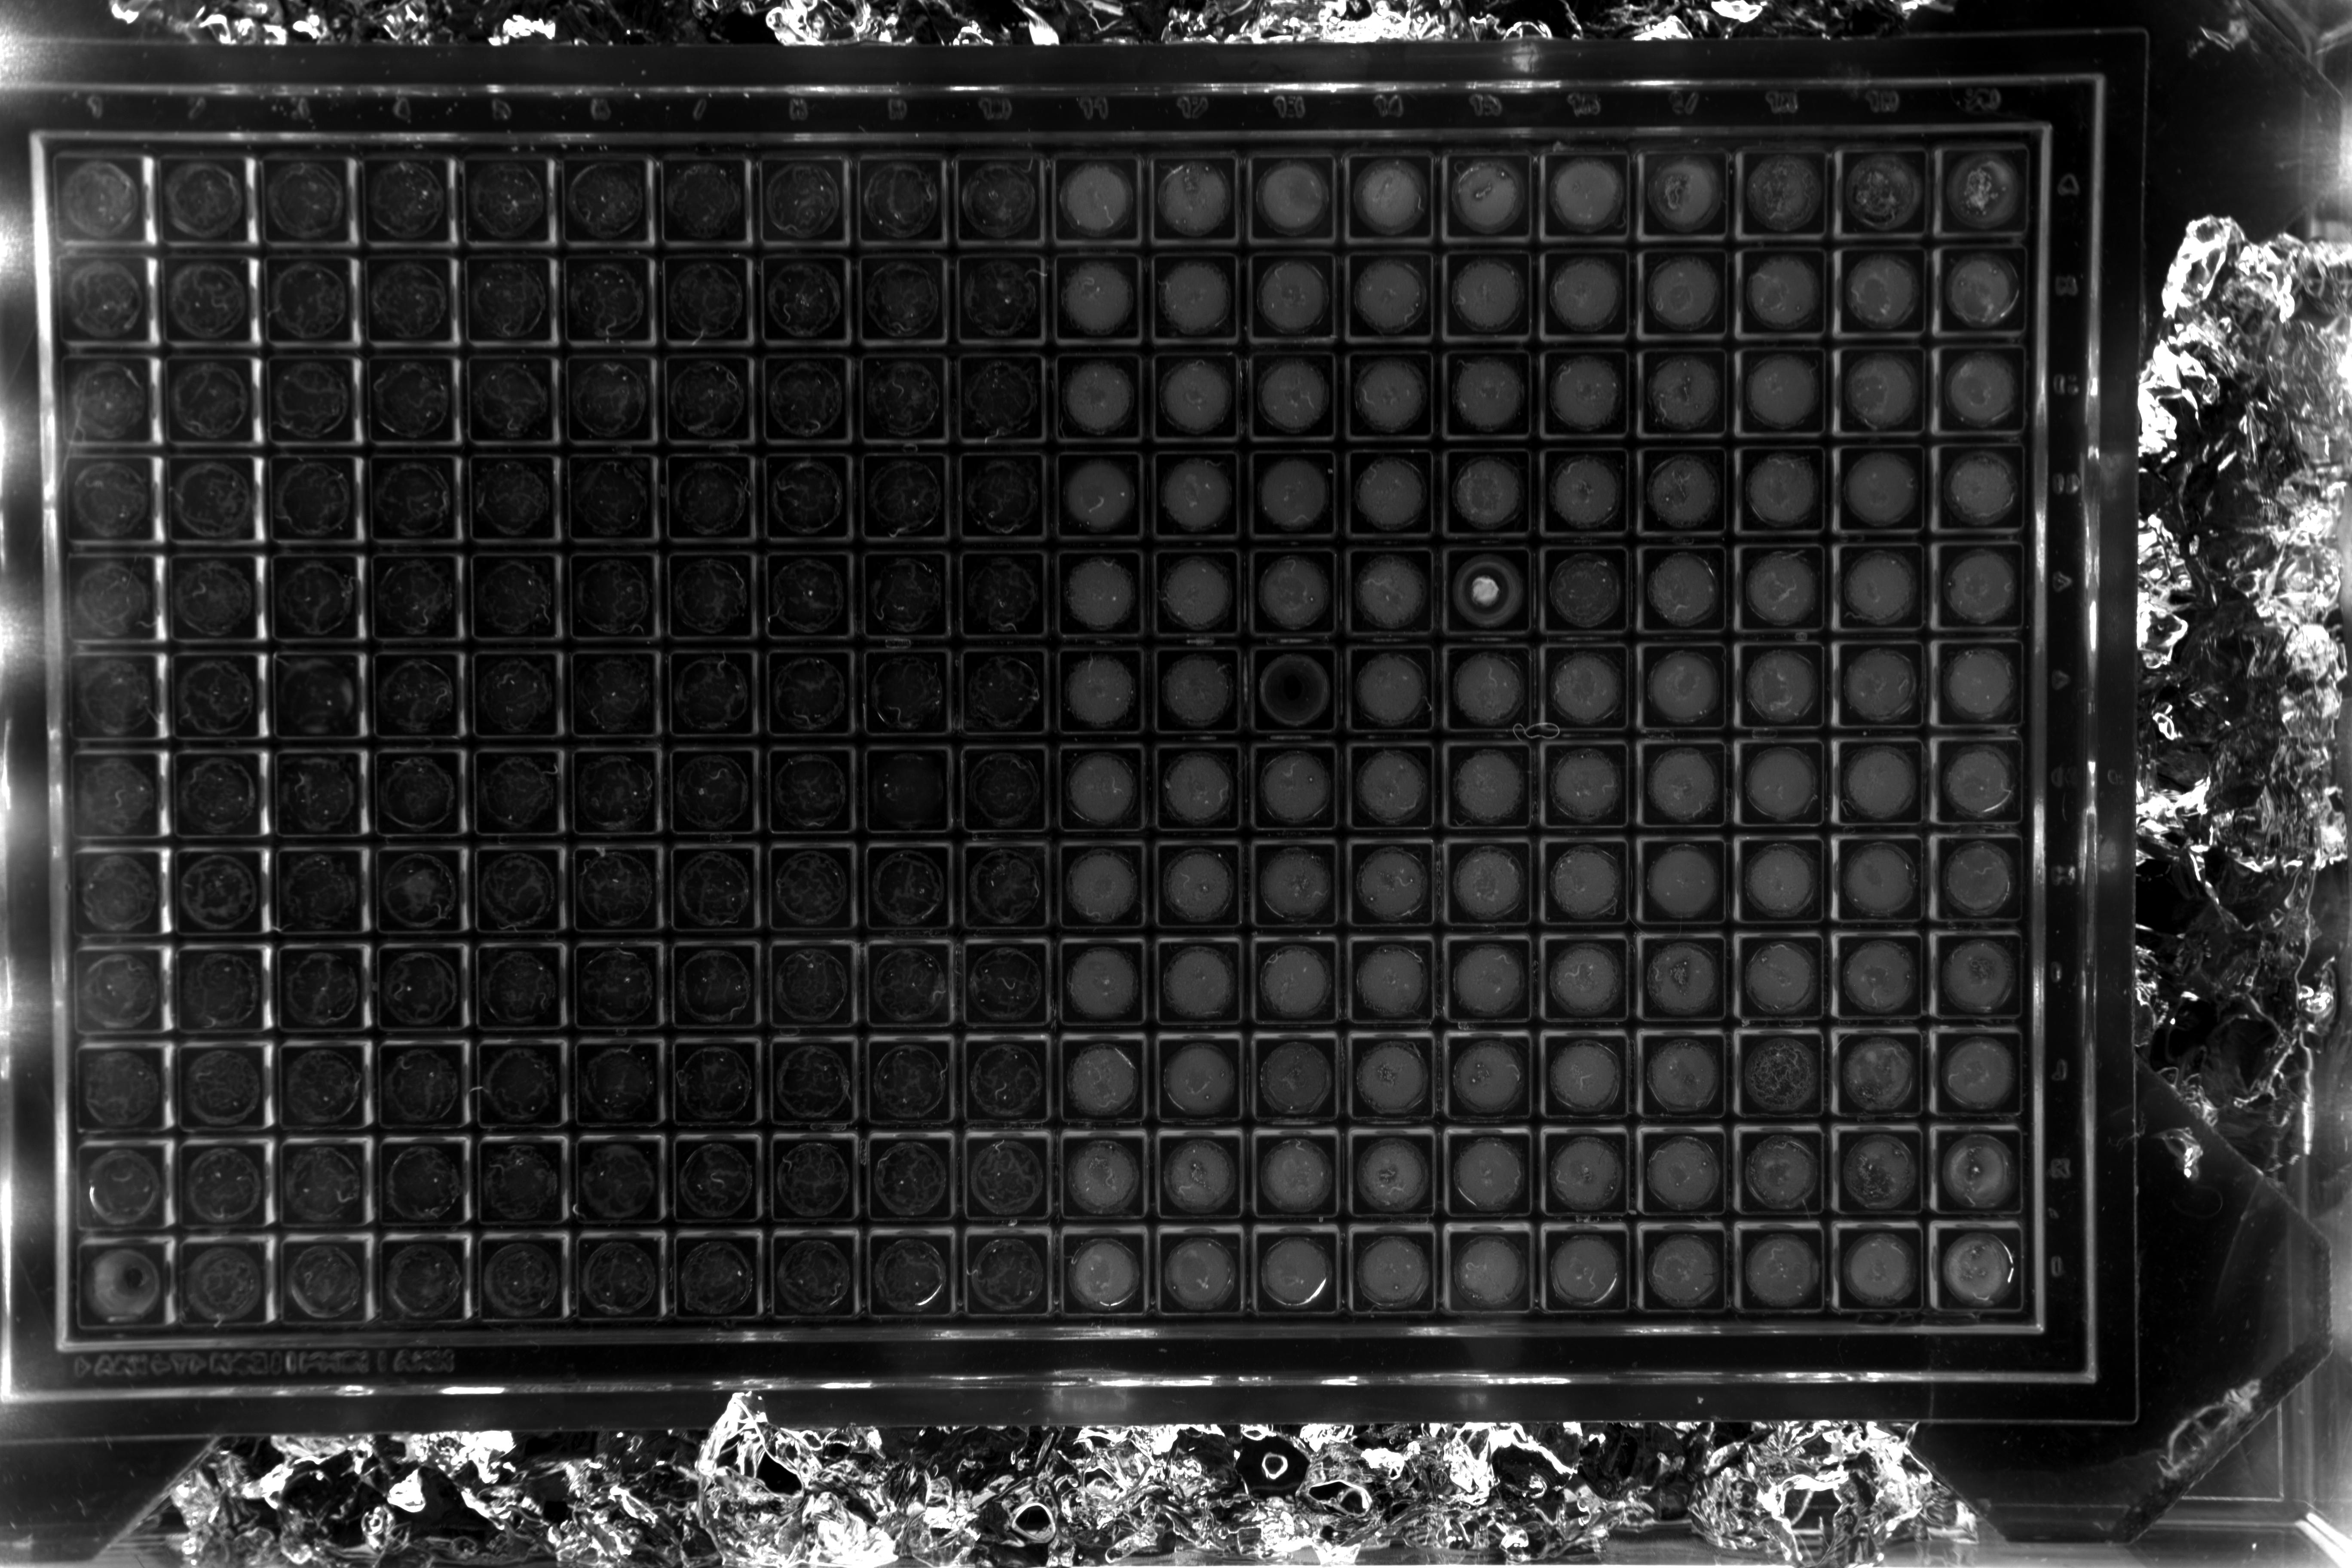WM_well: (789, 1213, 878, 1300), (205, 1120, 292, 1207), (303, 1120, 390, 1207), (401, 1216, 488, 1304), (595, 1116, 682, 1204), (688, 338, 775, 425), (884, 338, 971, 425), (887, 1115, 975, 1202), (983, 1113, 1071, 1200), (1080, 920, 1167, 1008), (1176, 532, 1263, 619), (1176, 726, 1263, 814), (1176, 822, 1263, 910), (1272, 920, 1360, 1008), (1465, 1211, 1552, 1298), (1465, 1017, 1552, 1104), (1466, 920, 1554, 1008), (1466, 630, 1554, 717), (1563, 1017, 1650, 1104), (1563, 920, 1650, 1008), (1568, 136, 1655, 224), (1666, 233, 1753, 320), (1864, 329, 1951, 416)
